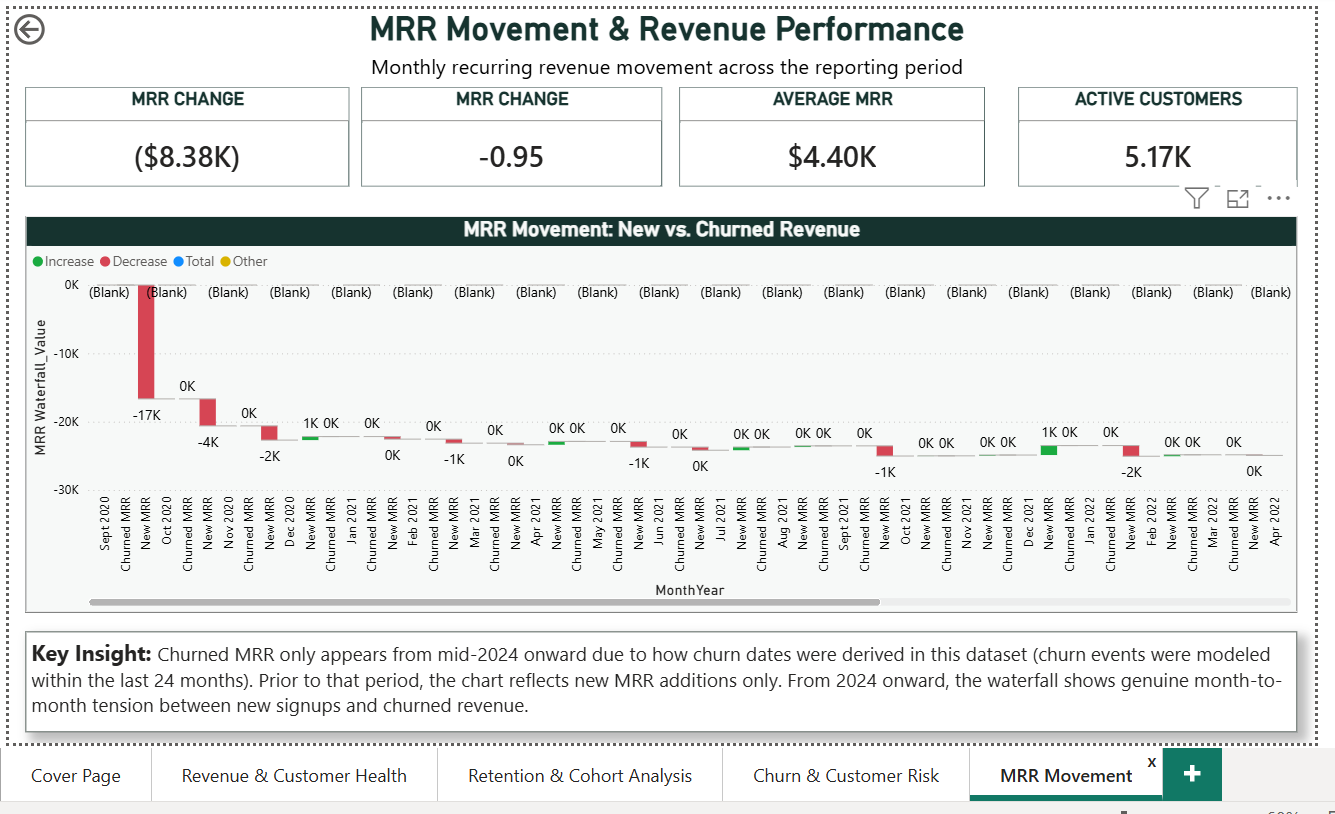

The page's visual inventory and layout, read from the dashboard file:
{"tool":"powerbi","page":{"name":"MRR Movement","canvas":[1280,720],"ordinal":4},"visuals":[{"type":"textbox","title":"MRR Movement & Revenue Performance","box":[8.1,0,1272.7,76.1],"z":0},{"type":"cardVisual","title":"MRR CHANGE","fields":{"Data":["Subscriptions.MRR Change"]},"box":[16.2,76.1,317.4,97.2],"z":1000},{"type":"cardVisual","title":"MRR CHANGE","fields":{"Data":["Subscriptions.MRR Change %"]},"box":[344.9,76.1,294.7,97.2],"z":2000},{"type":"cardVisual","title":"AVERAGE MRR","fields":{"Data":["Subscriptions.Average MRR"]},"box":[657.4,76.1,299.6,97.2],"z":3000},{"type":"cardVisual","title":"ACTIVE CUSTOMERS","fields":{"Data":["Subscriptions.Active Customers"]},"box":[989.3,76.1,273.6,97.2],"z":4000},{"type":"actionButton","box":[0,0,100,40],"z":5000},{"type":"waterfallChart","title":"MRR Movement: New vs. Churned Revenue","fields":{"Category":["Calender.MonthYear"],"Breakdown":["MRR Type Table.MRR_TYPE"],"Y":["Subscriptions.MRR Waterfall_Value"]},"box":[16.2,202.4,1246.8,388.6],"z":7000},{"type":"textbox","box":[16.2,610.4,1246.8,98.8],"z":7001}]}

Visuals, with their boxes on the page's 1280x720 design canvas (x1, y1, x2, y2). These are canvas units, not pixel positions in the 1335x814 screenshot, which may show the page scaled, cropped or inside an application window:
"MRR Movement & Revenue Performance" textbox: 8,0,1281,76
"MRR CHANGE" cardVisual: 16,76,334,173
"MRR CHANGE" cardVisual: 345,76,640,173
"AVERAGE MRR" cardVisual: 657,76,957,173
"ACTIVE CUSTOMERS" cardVisual: 989,76,1263,173
actionButton: 0,0,100,40
"MRR Movement: New vs. Churned Revenue" waterfallChart: 16,202,1263,591
textbox: 16,610,1263,709
